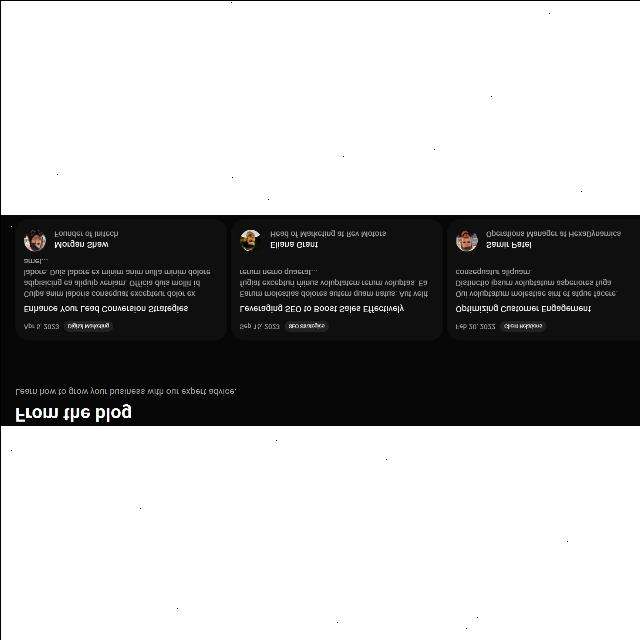QLabel: (23, 256, 211, 298), (238, 267, 428, 297), (454, 266, 618, 298), (14, 386, 236, 396), (14, 403, 130, 422), (238, 304, 404, 312), (23, 304, 187, 312), (484, 229, 620, 237), (456, 304, 590, 312), (269, 230, 385, 237), (54, 229, 118, 237), (52, 240, 108, 248), (268, 240, 318, 248), (484, 240, 532, 248), (503, 322, 541, 330), (454, 324, 496, 331), (66, 323, 108, 329), (239, 323, 279, 329), (286, 323, 324, 329), (24, 323, 58, 329)
VAvatar: (239, 229, 261, 251), (23, 229, 44, 251), (455, 230, 477, 250)
VCard: (13, 218, 226, 342), (230, 217, 442, 341), (444, 218, 640, 340)
VChip: (64, 321, 112, 332), (498, 321, 546, 332), (284, 321, 328, 332)
